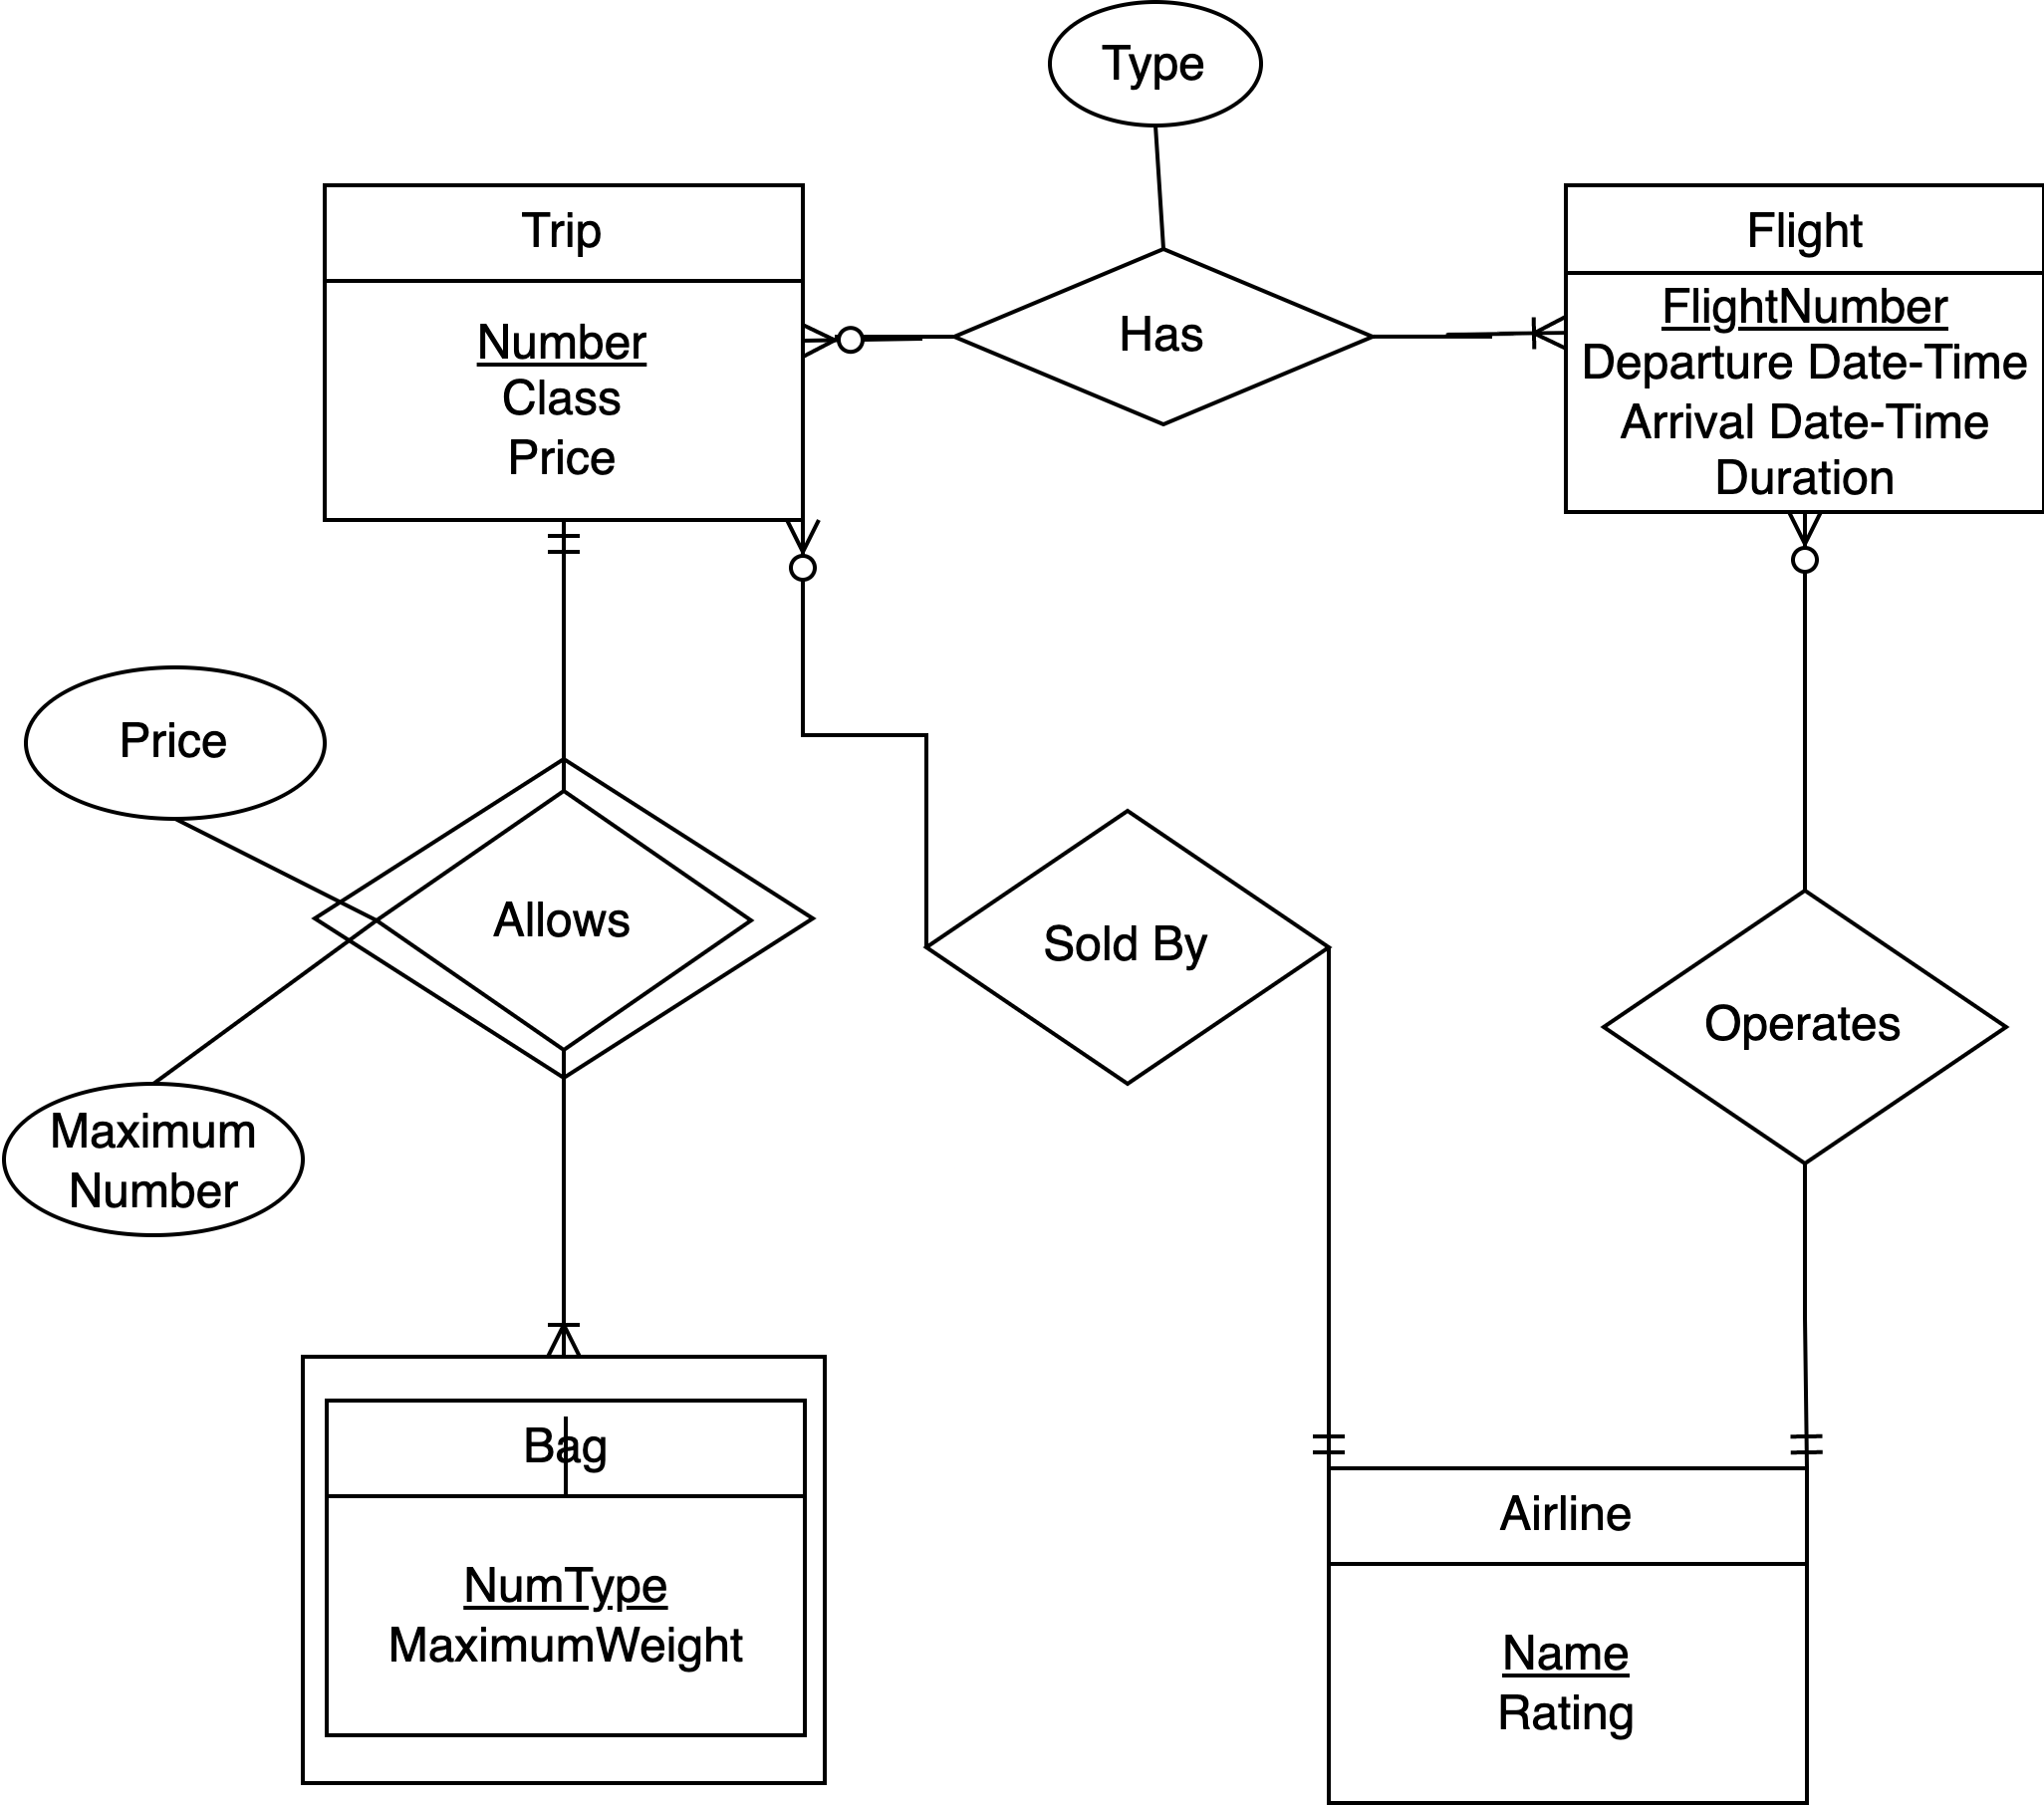entity: (1326, 1467, 1810, 1805), (321, 186, 805, 519), (1568, 179, 2041, 516)
ident_rel: (317, 754, 816, 1078)
many: (800, 301, 896, 383), (1765, 510, 1852, 575), (770, 517, 833, 599), (1495, 300, 1570, 366), (533, 1307, 594, 1357)
one: (526, 519, 606, 580), (1303, 1406, 1366, 1470), (1781, 1408, 1842, 1470)
rel: (1598, 894, 2011, 1167), (929, 810, 1330, 1087), (957, 246, 1375, 425)
rel_attr: (2, 1073, 303, 1239), (24, 666, 326, 819), (1049, 2, 1267, 125)
weak_entity: (300, 1361, 829, 1784)
